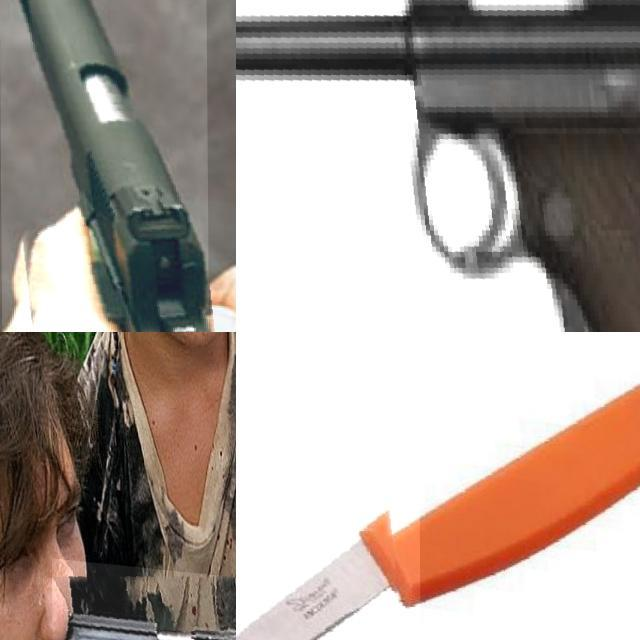-: (236, 453, 421, 640)
gun-knife-thesis - v11 Yolov5 augmented: (236, 0, 640, 332), (0, 0, 208, 332), (51, 555, 236, 640)
